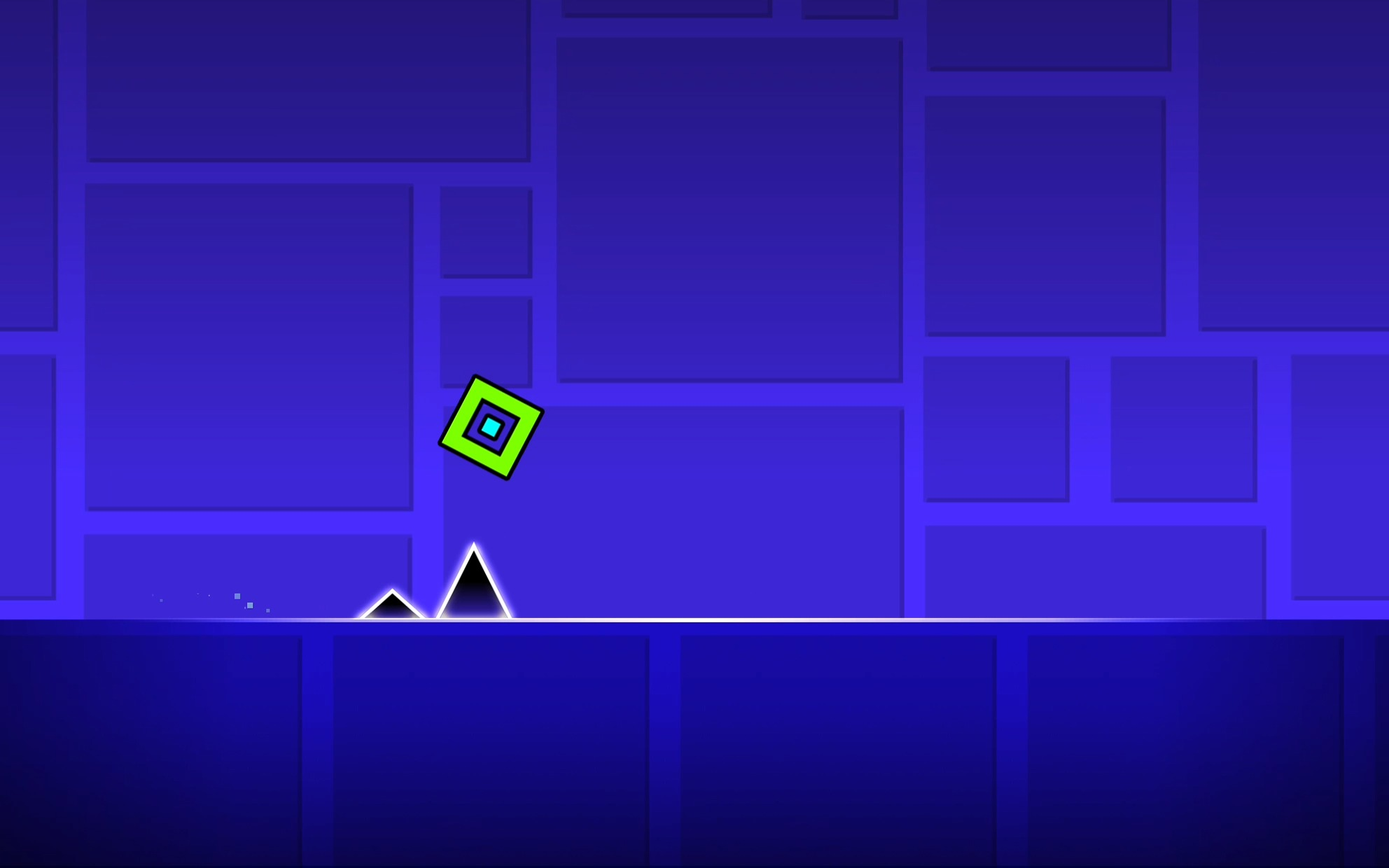Player: (439, 374, 543, 479)
Spike: (436, 544, 510, 617)
Spike2: (359, 589, 424, 618)
